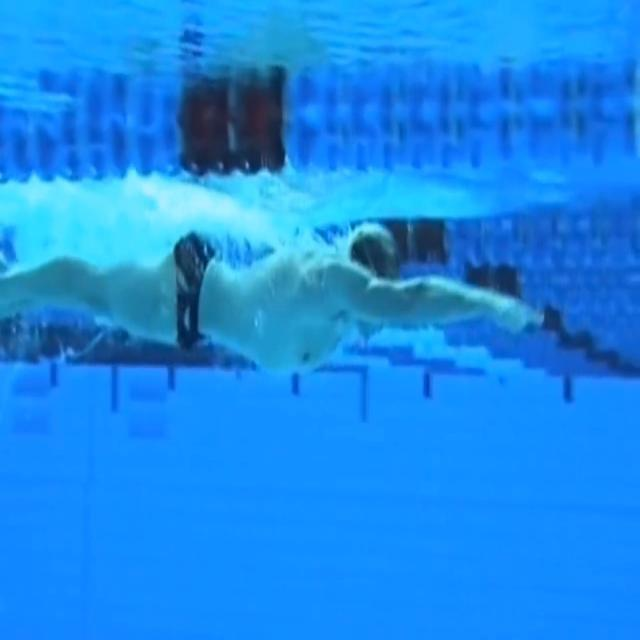Swimming: (1, 222, 543, 378)
